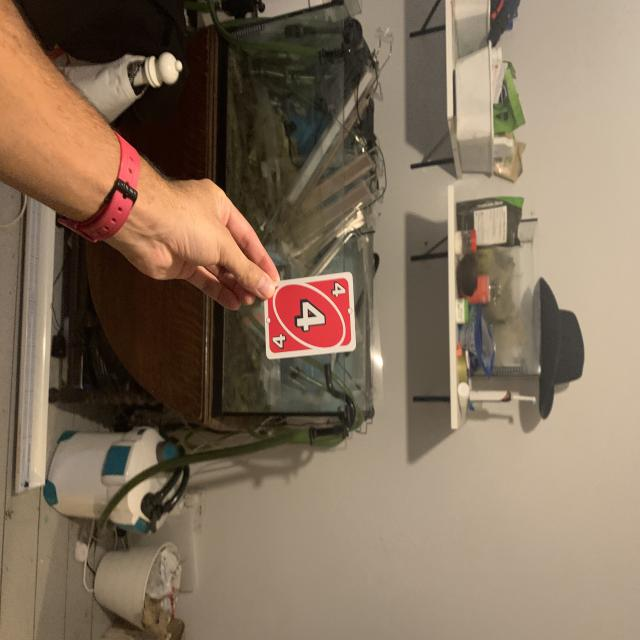lred-4: (329, 280, 349, 302)
